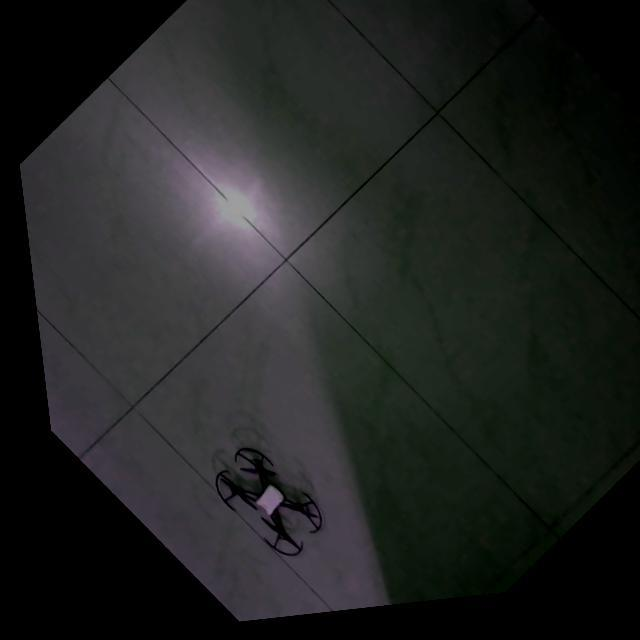drone: (202, 449, 308, 561)
